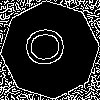O: (25, 25, 74, 68)
